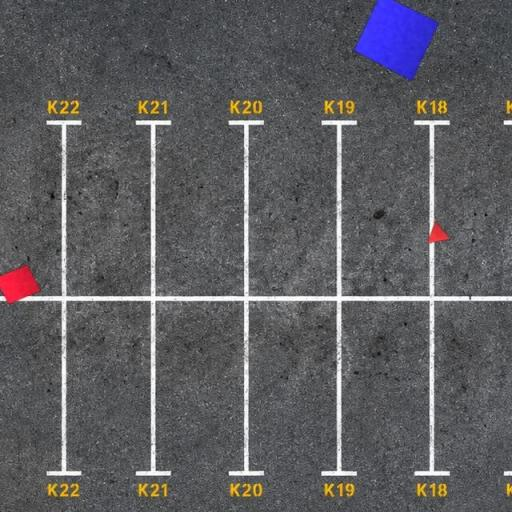BLUE_SQUARE: (353, 0, 440, 82)
RED_SQUARE: (0, 264, 42, 306)
